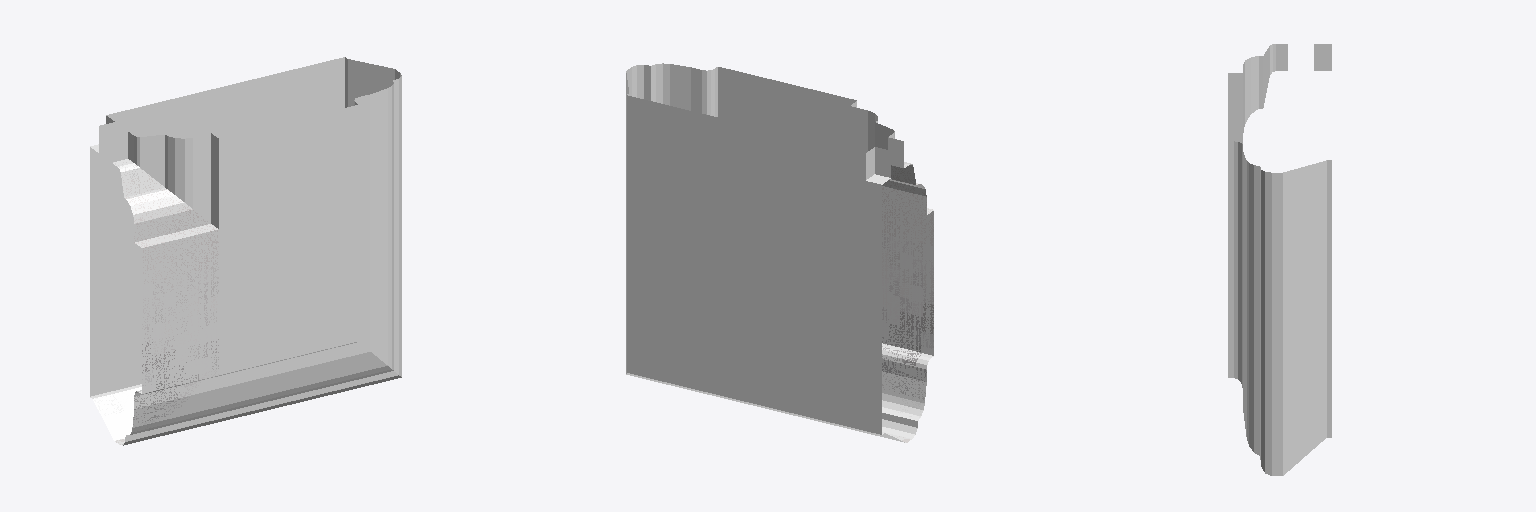
3 views of the same model, side by side, from view 1: azimuth 30°, elevation 25°; view 2: azimuth 150°, elevation 25°; view 3: azimuth 270°, elevation 25° (orthographic).
Visible parts, largest first — view 1: RT_11_BR1/RT_11_BR/mesh42/mesh42-geometry#mesh42-geometry; view 2: RT_11_BR1/RT_11_BR/mesh42/mesh42-geometry#mesh42-geometry; view 3: RT_11_BR1/RT_11_BR/mesh42/mesh42-geometry#mesh42-geometry.
Boxes of the visible parts, x1,y1,x2,y2 form: RT_11_BR1/RT_11_BR/mesh42/mesh42-geometry#mesh42-geometry: [90, 57, 401, 445]; RT_11_BR1/RT_11_BR/mesh42/mesh42-geometry#mesh42-geometry: [626, 63, 933, 442]; RT_11_BR1/RT_11_BR/mesh42/mesh42-geometry#mesh42-geometry: [1228, 44, 1331, 475].
Bounding box in the file's own units: 0.0879 × 0.0909 × 0.0284.
3 materials, 2 textured.